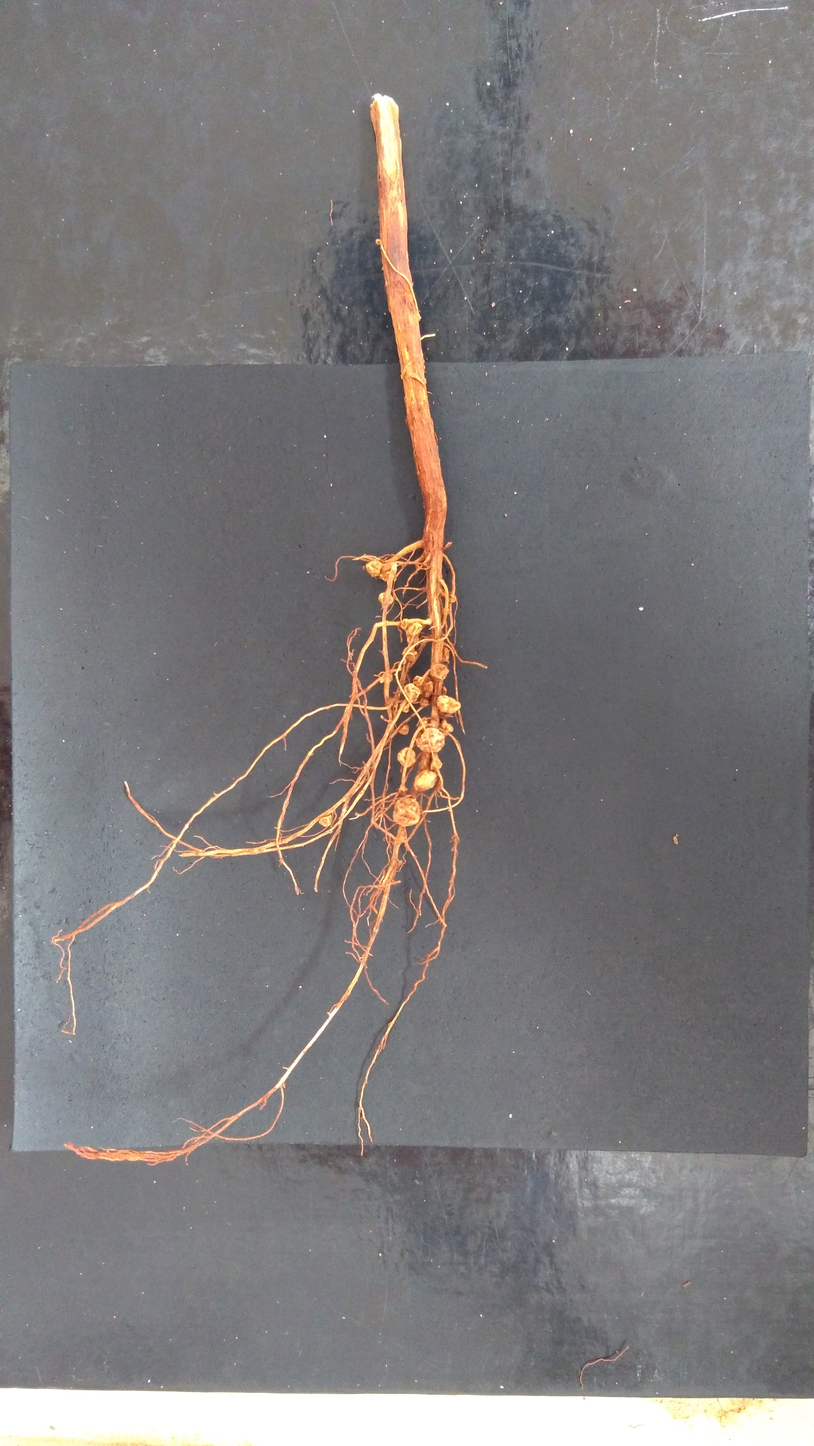nodule: (392, 796, 422, 827), (414, 725, 446, 753), (412, 769, 439, 792), (412, 675, 435, 700), (436, 694, 462, 715), (397, 746, 417, 768), (402, 682, 421, 704), (429, 662, 449, 681), (365, 559, 382, 578), (429, 750, 443, 771), (378, 592, 395, 608), (318, 814, 334, 828), (407, 622, 423, 636), (402, 647, 418, 660), (441, 720, 454, 734), (398, 723, 411, 737), (418, 697, 432, 709), (406, 635, 420, 645), (400, 617, 409, 631), (401, 703, 411, 715), (443, 646, 450, 660), (439, 686, 448, 696), (398, 784, 408, 793), (449, 593, 457, 602), (442, 606, 450, 615)
